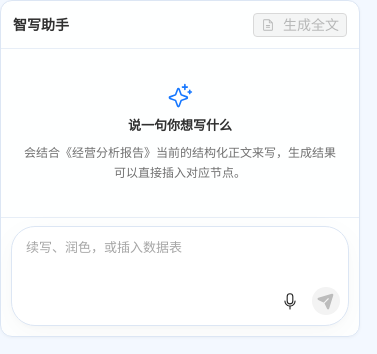
it: WritingChatPanel › 以 writing 模式和 writing- 前缀的会话发起请求，不占用问数会话
The width and height of the screenshot is (377, 354).
Step 1. Type "帮我拟一版开头" into the text box → {"x": 180, "y": 255}, box [12, 227, 348, 283]
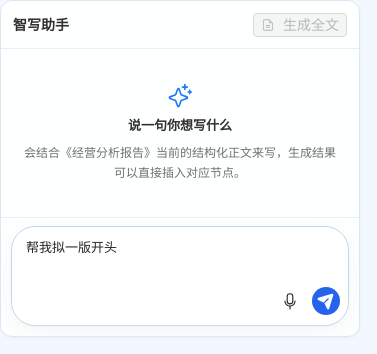
Step 2. Press Enter
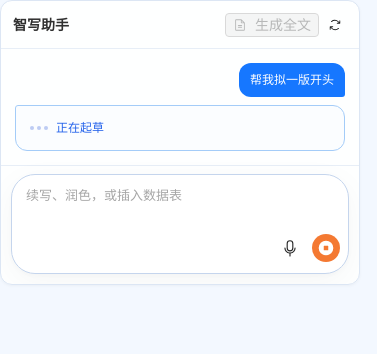
Expected: the text "帮我拟一版开头" is shown, [239, 63, 345, 97]
